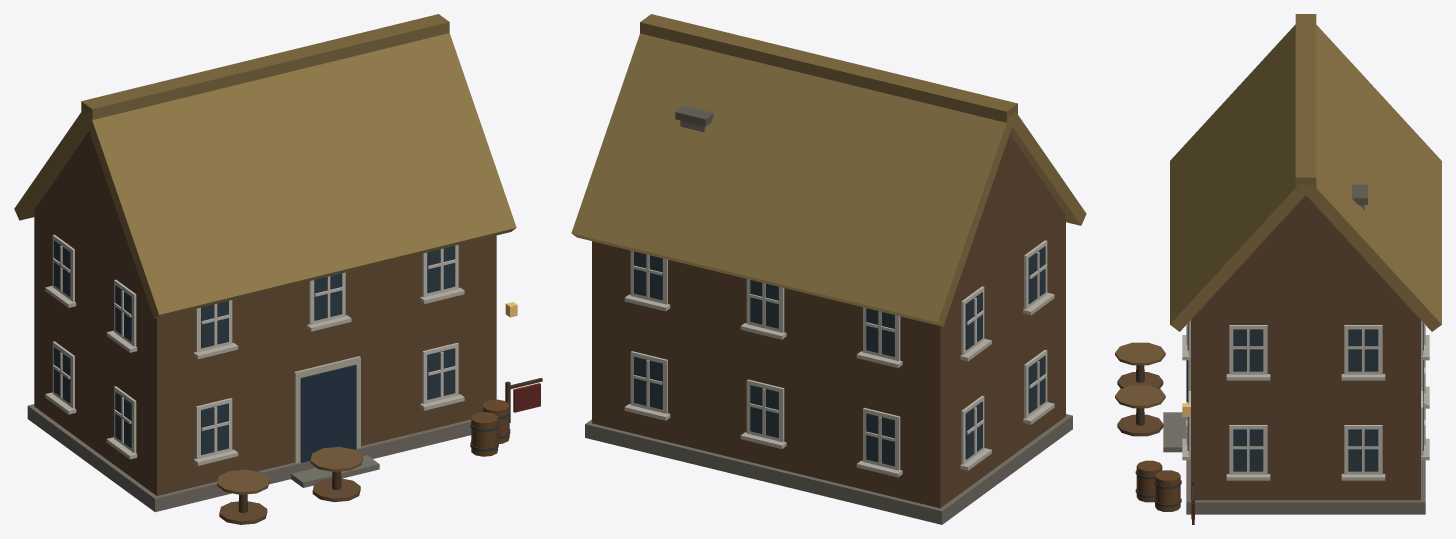
Rendered from procedural_inn@3.glb.
The picture shows the model from 3 angles, left to right: view 1: azimuth 30°, elevation 25°; view 2: azimuth 150°, elevation 25°; view 3: azimuth 270°, elevation 25°; orthographic projection. The views are drawn at different scales.
Visible parts, largest first — view 1: part_0; view 2: part_0; view 3: part_0.
Boxes of the visible parts, x1,y1,x2,y2 form: part_0: [14, 14, 542, 524]; part_0: [571, 14, 1086, 524]; part_0: [1115, 14, 1441, 524].
Bounding box in the file's own units: 9.31 × 8.14 × 7.11.
